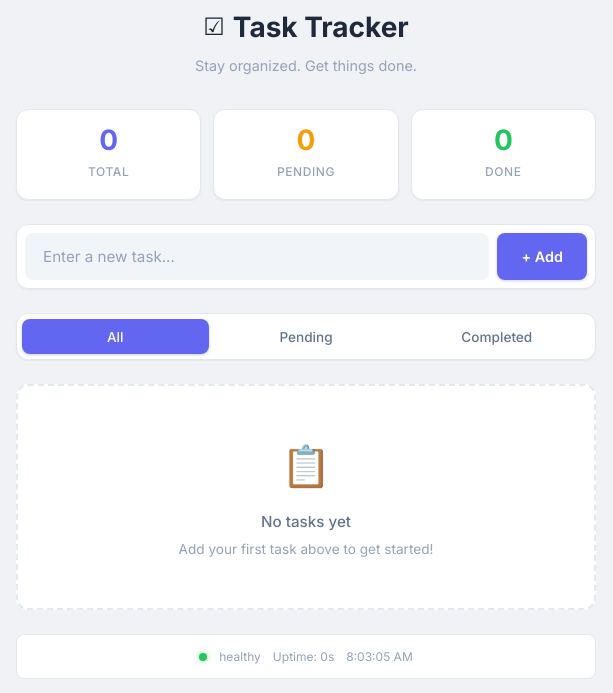
Scenario: App – Integration › adds a task and displays it in the list
The image size is (613, 693).
Type "Integration test task" into the field with placeholder "Enter a new task..." at x=257, y=257, box [25,233,490,280]
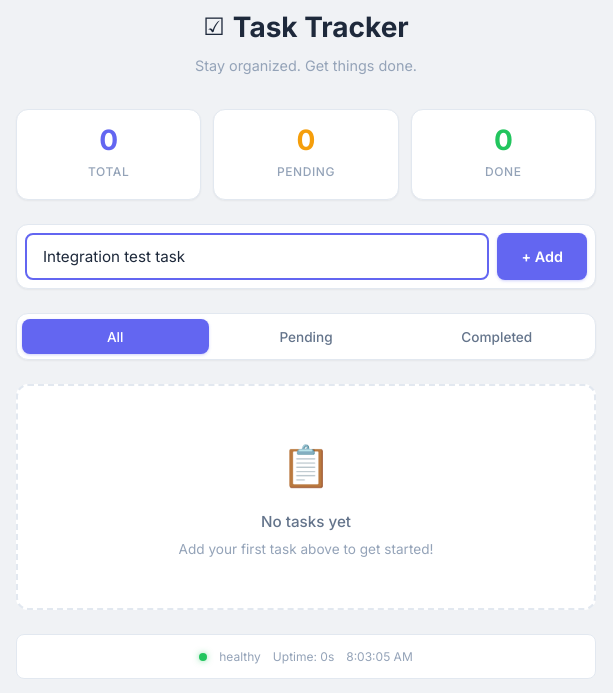
Click the button "+ Add" at x=542, y=257, box [498,233,587,280]
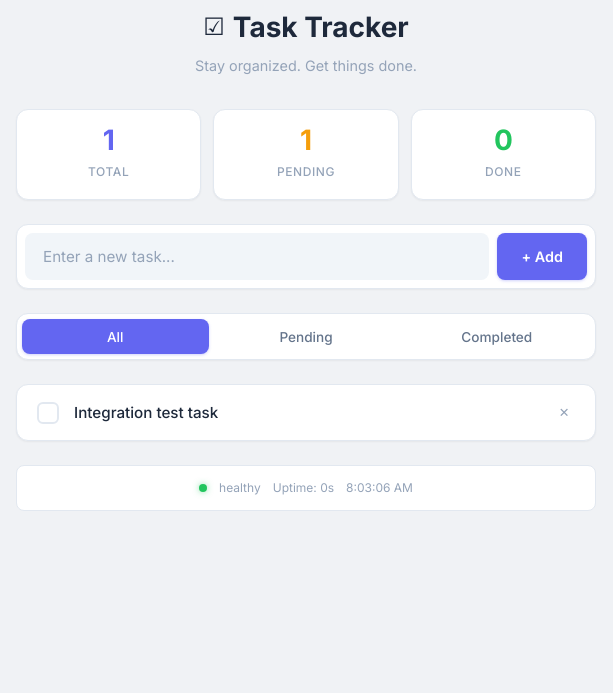
Result: the text "Integration test task" is shown at [74,401,218,425]
